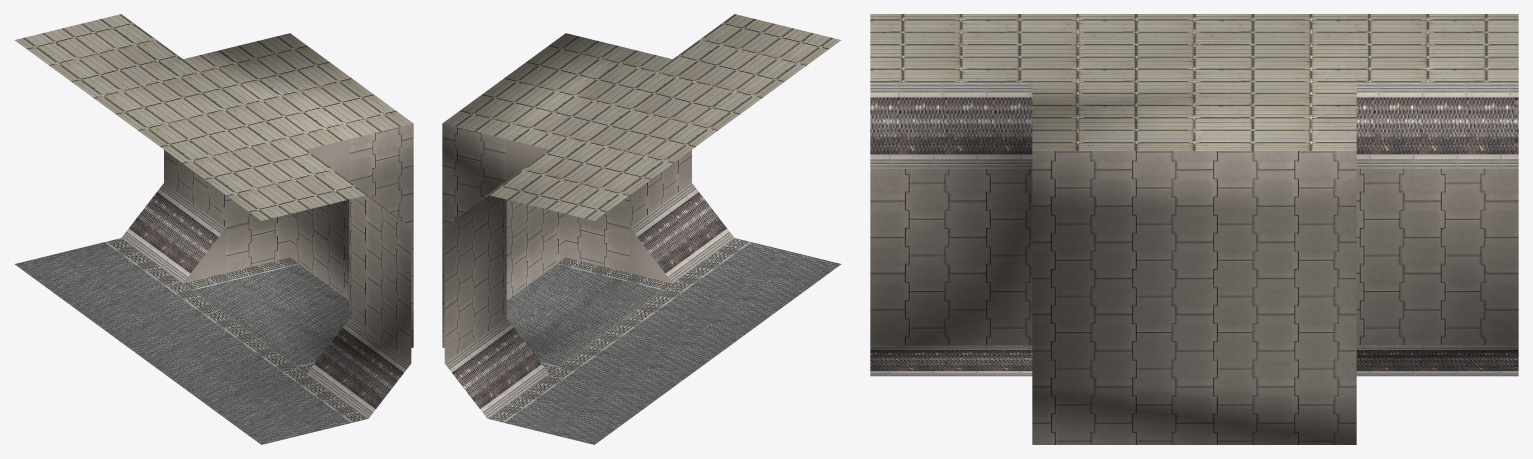
File: corridor_T_closed_half.obj
The picture shows the model from 3 angles, left to right: view 1: azimuth 30°, elevation 25°; view 2: azimuth 150°, elevation 25°; view 3: azimuth 270°, elevation 25°; orthographic projection. The views are drawn at different scales.
Parts seen in each view (by area): view 1: cube1; view 2: cube1; view 3: cube1.
Part boxes in pixels (x1,y1,x2,y2): cube1: [14, 14, 413, 444]; cube1: [442, 14, 841, 444]; cube1: [870, 14, 1518, 444].
Size of the model in its own units: 10 by 10 by 20.
